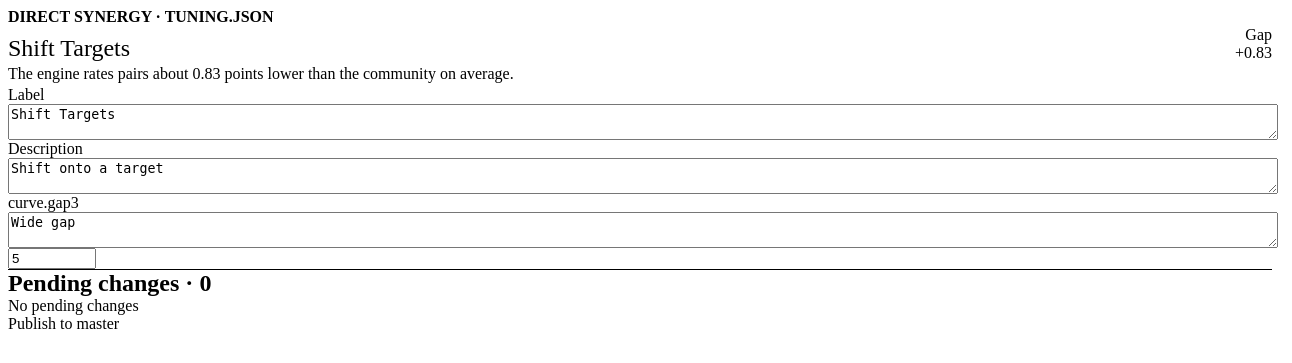
Test: TuningAside, editing › heads a direct entry as one, and labels a score edit with the entry's name
The image size is (1292, 363).
Expected: the text "Direct synergy · tuning.json" is shown, [8, 8, 274, 25]
Expected: the heading "Shift Targets" is shown, [8, 35, 130, 62]
Replace the text in the number field named "curve.gap3 score" with "7" at (52, 258), box [8, 248, 96, 269]
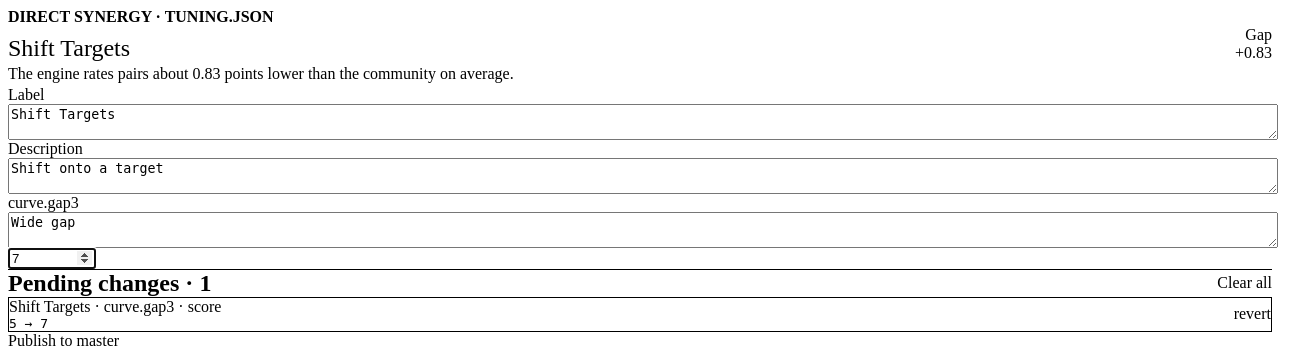
Now the text "Shift Targets · curve.gap3 · score" is shown, box [9, 298, 222, 316]
Now the text "5 → 7" is shown, box [9, 316, 48, 331]
